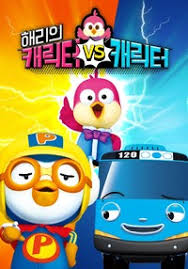Harry: (57, 69, 128, 161), (74, 4, 115, 40)
Pororo: (1, 129, 93, 269)
